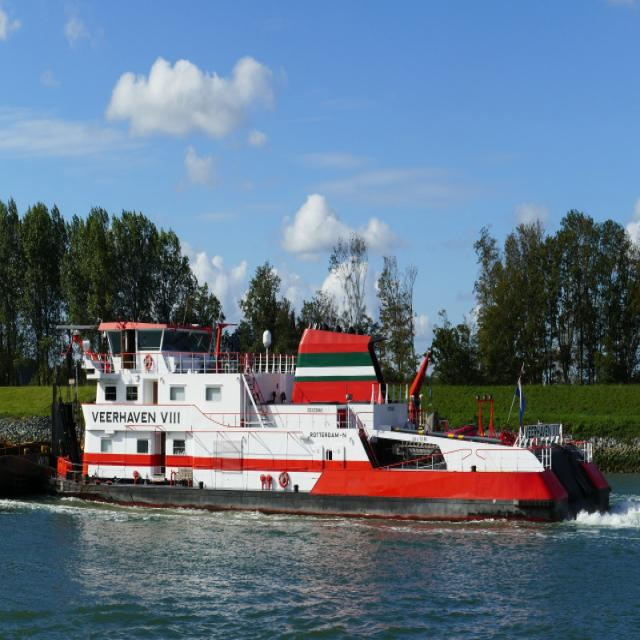tugboat: (48, 291, 619, 554)
